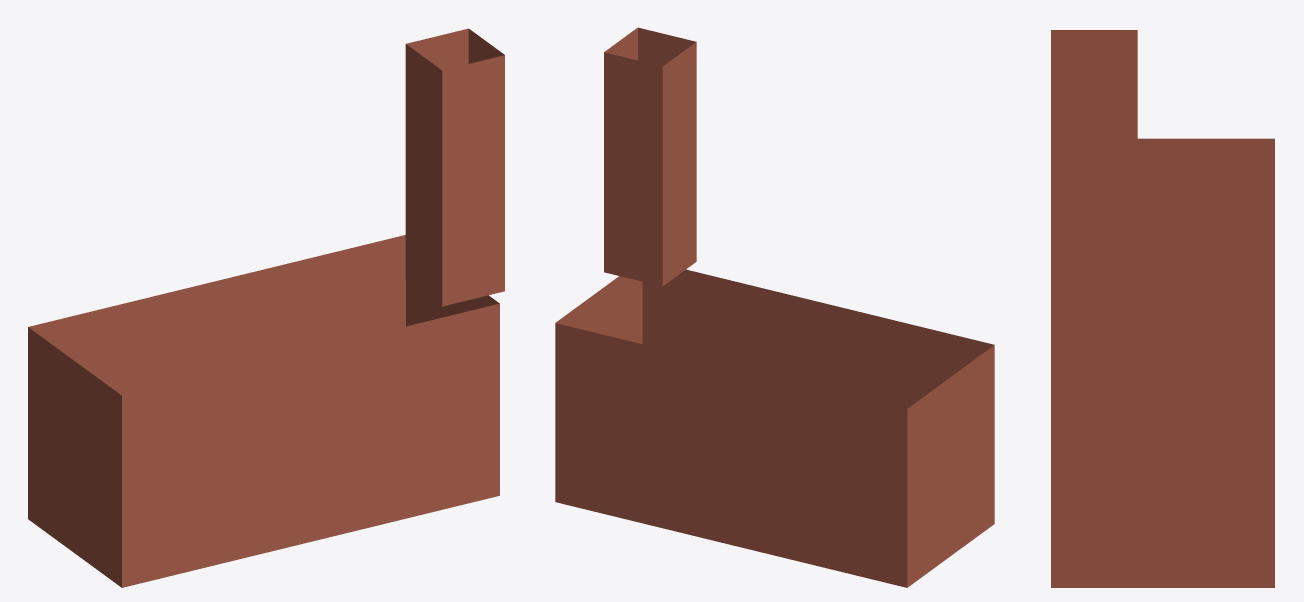
The model's file is Svc_fire.fbx.
3 renders of one model, left to right at view 1: azimuth 30°, elevation 25°; view 2: azimuth 150°, elevation 25°; view 3: azimuth 270°, elevation 25°, orthographic. The views are drawn at different scales.
Parts seen in each view (by area): view 1: Svc_fire_LOD0; view 2: Svc_fire_LOD0; view 3: Svc_fire_LOD0.
Boxes of the visible parts, <box> form: Svc_fire_LOD0: <box>28,28,504,587</box>; Svc_fire_LOD0: <box>555,27,994,587</box>; Svc_fire_LOD0: <box>1051,30,1274,587</box>.
Size of what is drawn, in the model's own units: 1510 by 1640 by 700.
1 material, 1 textured.
